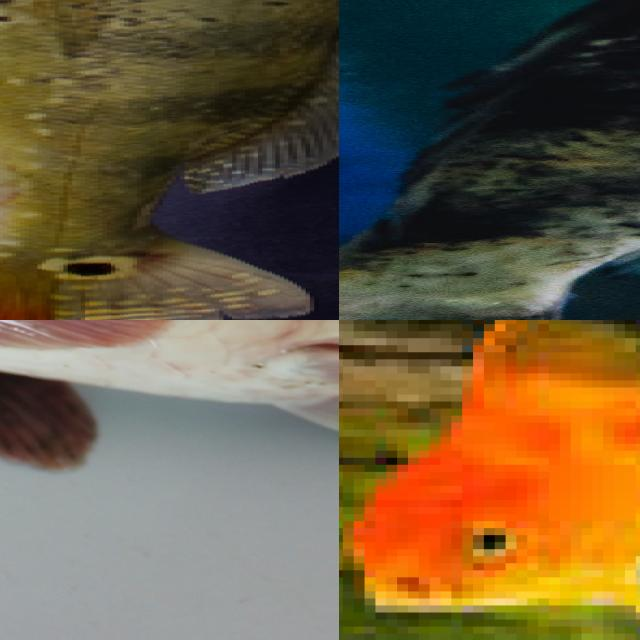fish: (0, 0, 339, 320), (339, 0, 640, 320), (339, 320, 640, 528), (0, 320, 339, 462)
